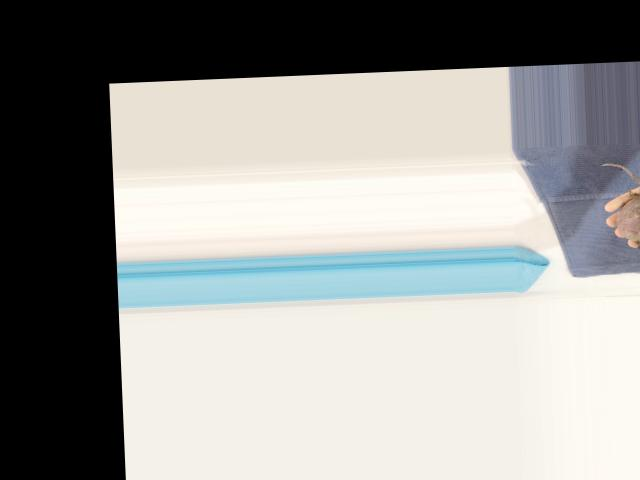beet: (599, 160, 640, 254)
